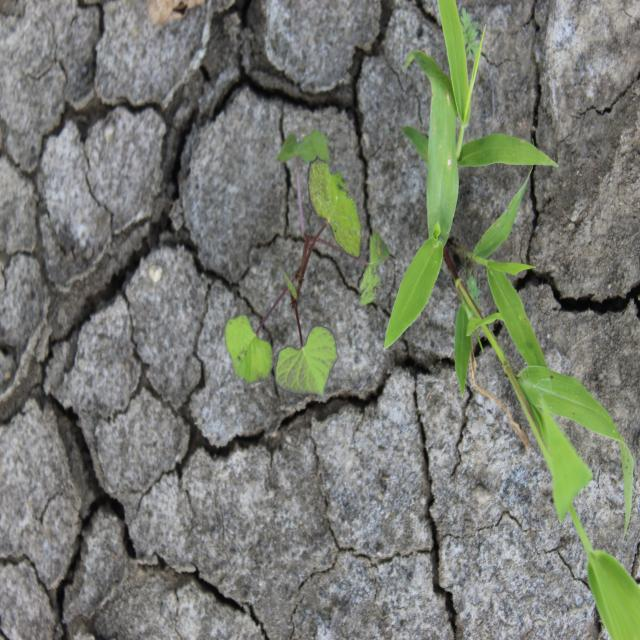MorningGlory: (224, 126, 391, 401)
